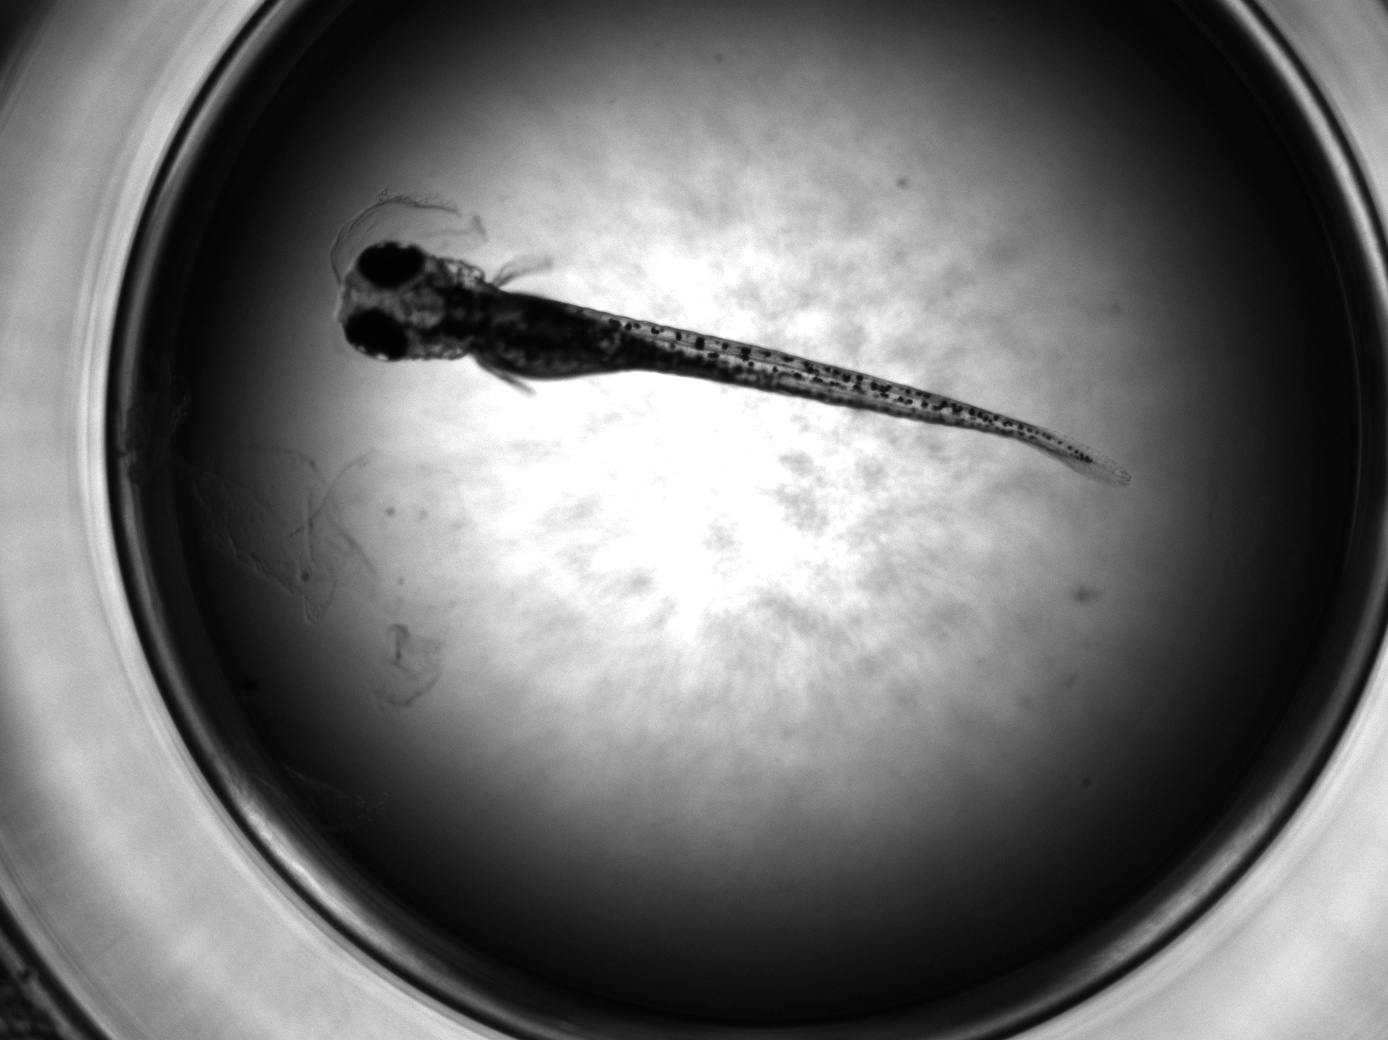debris: (185, 444, 448, 711)
embryo: (336, 240, 1103, 469)
eye: (345, 308, 412, 363), (357, 239, 425, 289)
yolksac: (475, 289, 634, 385)
